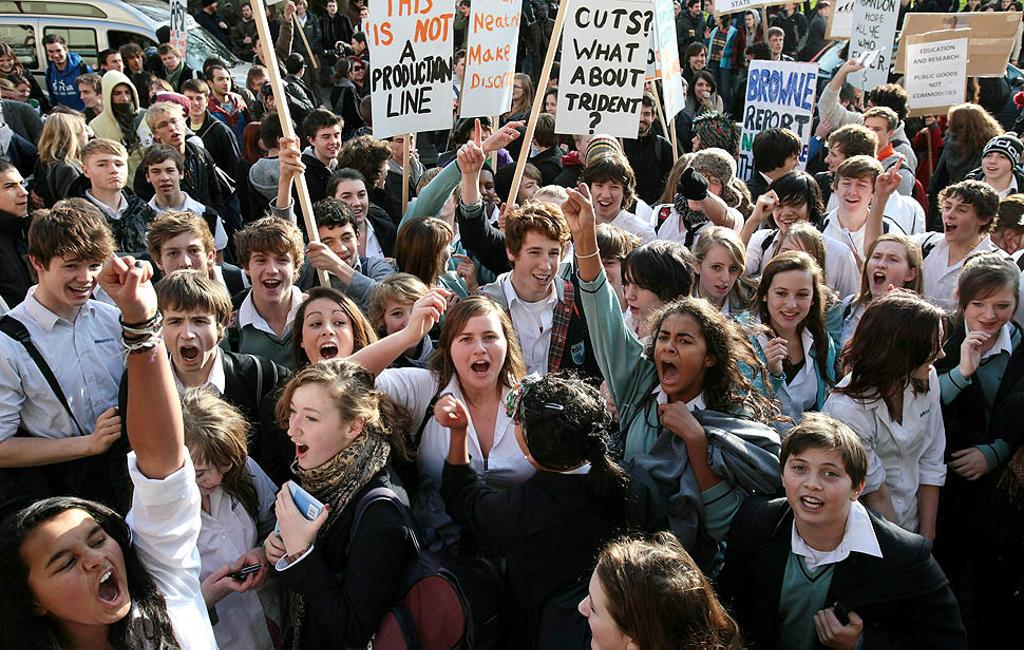face: (30, 516, 132, 625), (784, 452, 851, 525), (288, 384, 344, 468), (163, 296, 218, 372), (452, 318, 507, 389), (46, 240, 104, 307), (579, 576, 626, 650), (655, 324, 704, 393), (304, 310, 354, 370), (182, 442, 234, 497), (517, 235, 561, 294), (965, 289, 1015, 337), (768, 277, 813, 329), (250, 253, 294, 304), (906, 326, 946, 380), (162, 239, 208, 284), (624, 271, 663, 321), (867, 248, 905, 297), (702, 248, 738, 298), (317, 226, 357, 270), (943, 193, 976, 242), (386, 306, 426, 345), (686, 168, 721, 211), (838, 174, 873, 212), (91, 155, 129, 190), (335, 186, 369, 223), (777, 243, 810, 280), (592, 179, 624, 216), (590, 257, 621, 295), (1, 175, 29, 217), (774, 198, 807, 232), (424, 185, 455, 218), (149, 164, 179, 196), (155, 115, 183, 146), (472, 173, 495, 208), (983, 152, 1012, 179), (317, 128, 342, 159), (518, 181, 542, 211), (864, 120, 888, 147), (436, 236, 454, 272), (825, 142, 845, 174), (394, 131, 416, 160), (581, 130, 603, 158), (112, 86, 132, 112), (184, 92, 206, 115), (471, 125, 491, 149), (783, 149, 800, 175), (79, 84, 96, 109), (375, 156, 391, 182), (75, 125, 90, 151), (635, 107, 651, 131), (47, 45, 67, 64), (215, 73, 232, 95), (254, 77, 273, 95), (863, 100, 877, 123), (150, 83, 166, 103), (674, 86, 688, 108), (689, 52, 705, 71), (109, 56, 124, 76), (695, 81, 711, 99), (160, 55, 178, 71), (508, 80, 522, 100), (1, 90, 15, 110), (257, 135, 273, 152), (641, 79, 655, 98), (458, 59, 472, 78), (692, 132, 704, 153), (129, 54, 143, 72), (770, 37, 784, 54), (352, 62, 365, 80), (744, 55, 756, 74), (546, 98, 558, 117), (17, 86, 31, 102), (1, 56, 14, 73), (257, 41, 269, 58), (265, 96, 277, 112), (543, 72, 552, 89), (352, 39, 361, 55), (537, 7, 547, 20), (297, 1, 307, 14), (27, 41, 37, 54), (360, 10, 369, 22), (745, 17, 755, 27), (1008, 7, 1017, 18), (705, 2, 714, 13), (460, 6, 469, 17), (328, 4, 337, 15), (243, 8, 252, 19), (821, 7, 831, 16), (693, 4, 702, 14), (985, 10, 993, 20), (783, 2, 793, 10), (715, 15, 723, 25), (689, 30, 696, 41), (352, 64, 356, 82), (672, 6, 679, 16), (1002, 1, 1010, 9), (212, 2, 218, 12), (970, 1, 978, 8), (357, 1, 365, 8), (903, 1, 910, 7)
